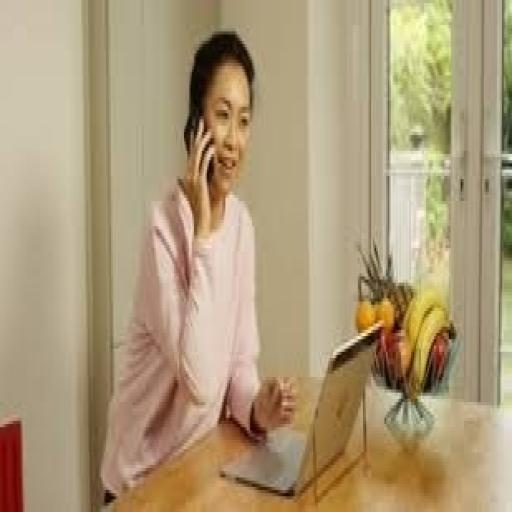calling: (98, 28, 298, 503)
